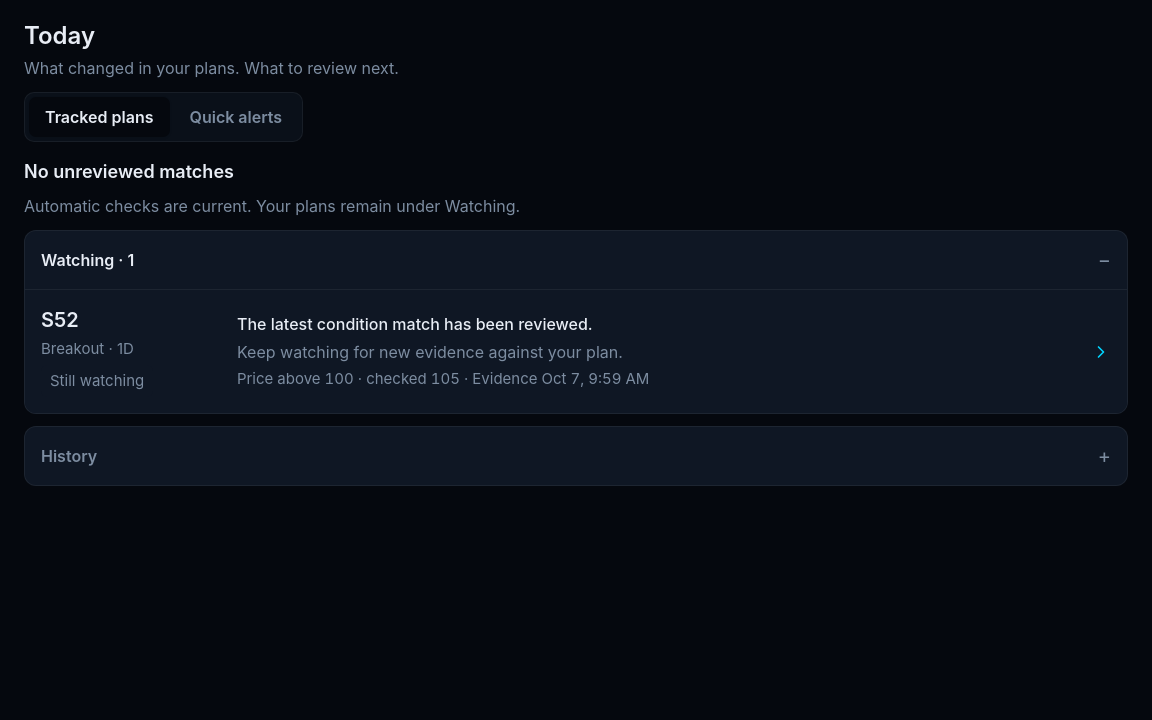
Test: defaults to plans, keeps standalone alerts functional, and sorts SQLite UTC timestamps with qualified evaluations
This screenshot has width=1152, height=720.
Expected: the text "S52" is shown, [41,308,79,332]
Click the heading "History".
click(69, 456)  # box [41,446,97,466]
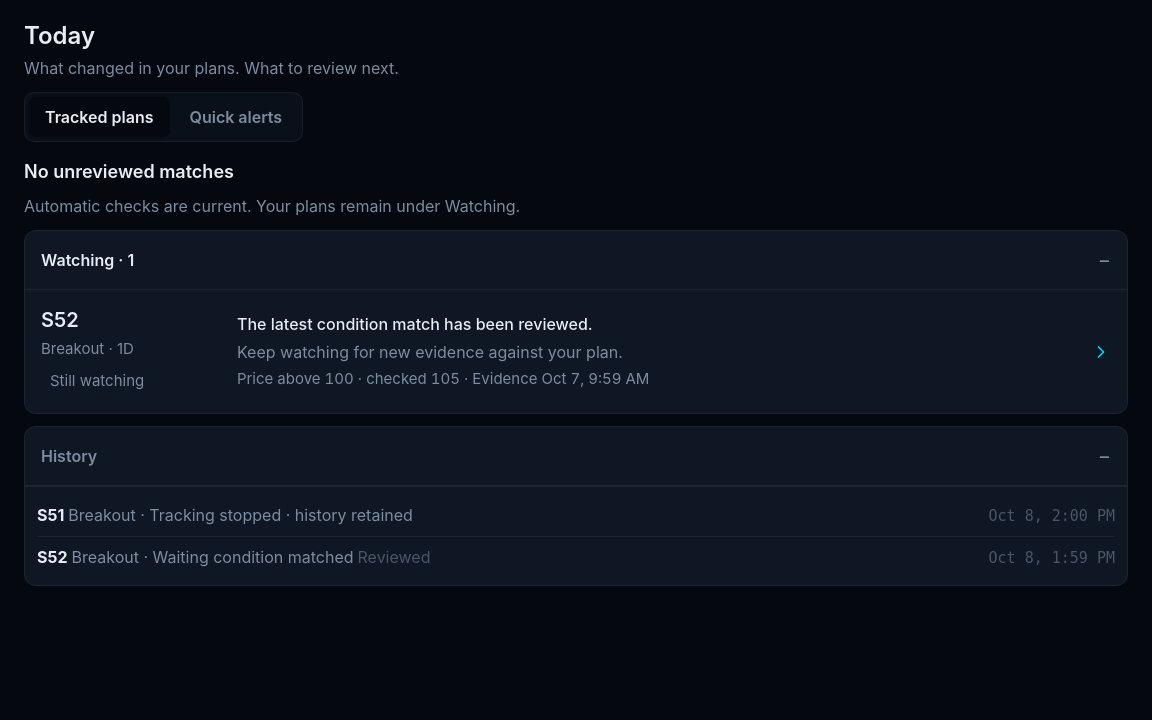
Expected: the text "S51Breakout · Tracking stopped · history retained" is shown, [37,503,413,527]
Expected: the list item that starts with "S51" is shown, [37,505,64,525]
Expected: the list item that starts with "S52" is shown, [37,546,68,566]
Click the tab "Quick alerts".
click(236, 117)  # box [174,97,298,137]
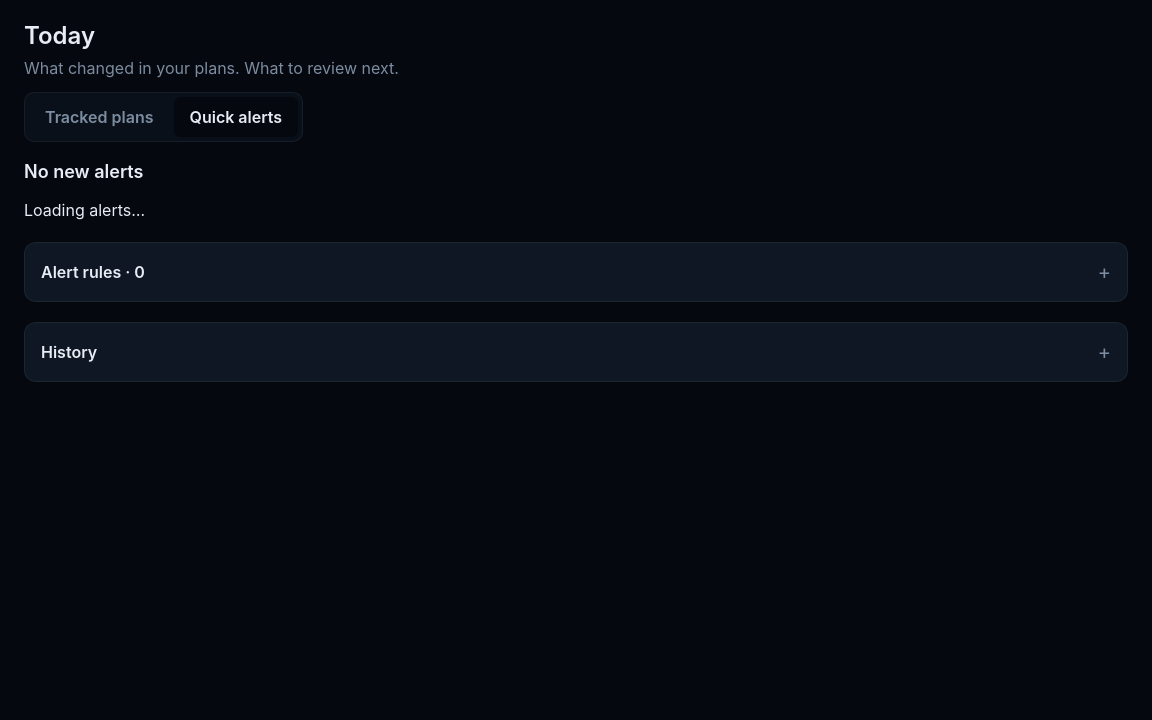
Expected: the button "S52" is gone
Click the tab "Tracked plans".
click(99, 117)  # box [29,97,170,137]
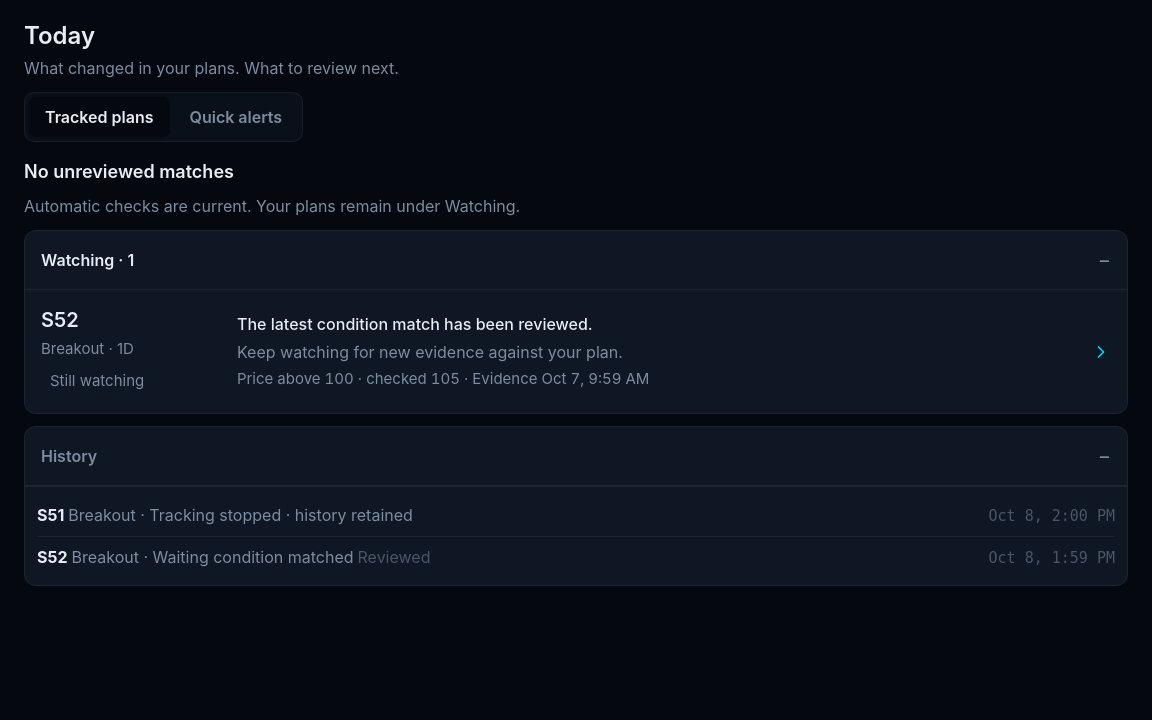
Expected: the text "S52" below "Watching ·" is shown, [41,308,79,332]
